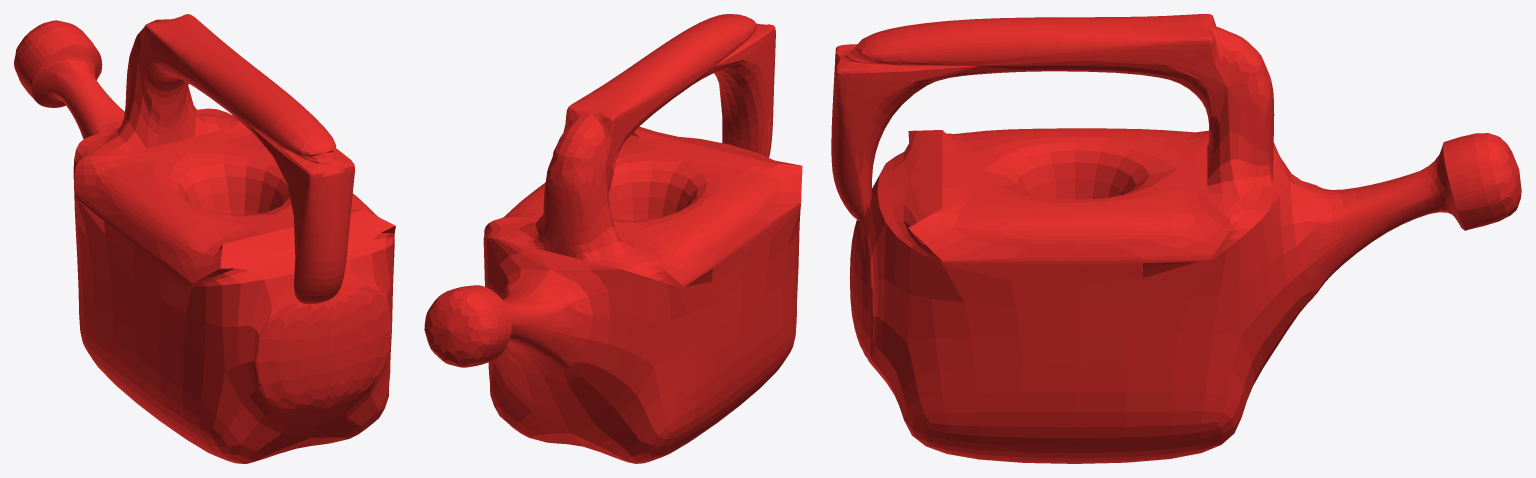
File: regador.glb
3 renders of one model, left to right at view 1: azimuth 30°, elevation 25°; view 2: azimuth 150°, elevation 25°; view 3: azimuth 270°, elevation 25°, orthographic. The views are drawn at different scales.
Parts seen in each view (by area): view 1: Cube; view 2: Cube; view 3: Cube.
Part boxes in pixels (x1,y1,x2,y2): Cube: [14, 14, 395, 463]; Cube: [424, 14, 802, 463]; Cube: [831, 14, 1521, 463].
Size of the model in its own units: 1.7 by 2.96 by 4.42.
